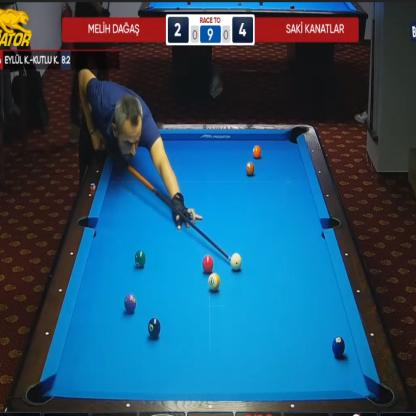Ball: (148, 317, 161, 339), (332, 336, 345, 357), (124, 293, 136, 313), (134, 250, 146, 268), (230, 253, 242, 271), (202, 256, 214, 274), (208, 273, 220, 291), (252, 145, 262, 159), (245, 162, 254, 176)
